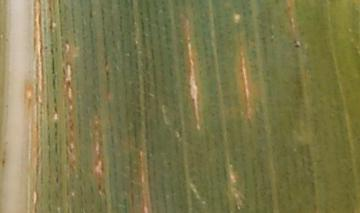tarspot: (293, 42, 302, 48)
